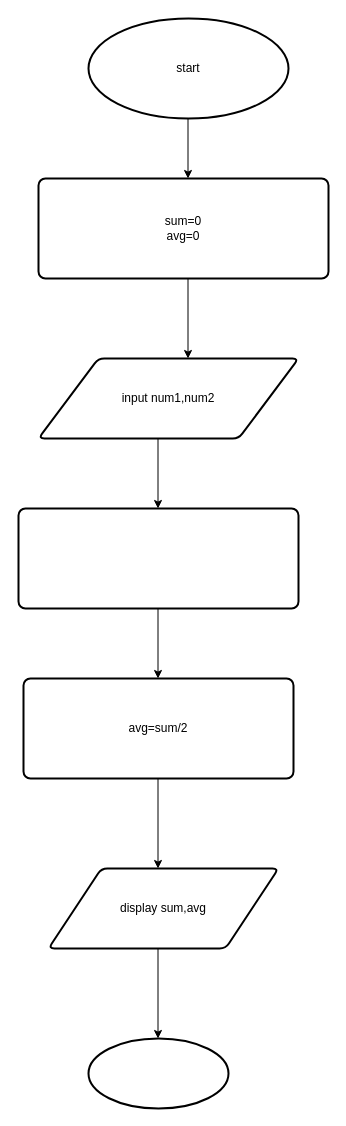
Image size: 346x1126. Some labels were removed from this diagram. The centre of each missing label's shape, as x and y in pixels:
End: [158,1073]
sum=num1+num2: [158,558]
